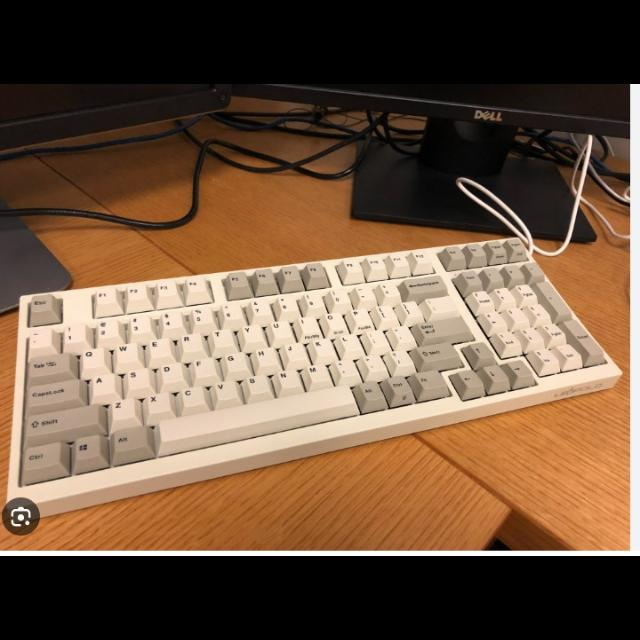Computer-Keyboard: (3, 239, 622, 537)
